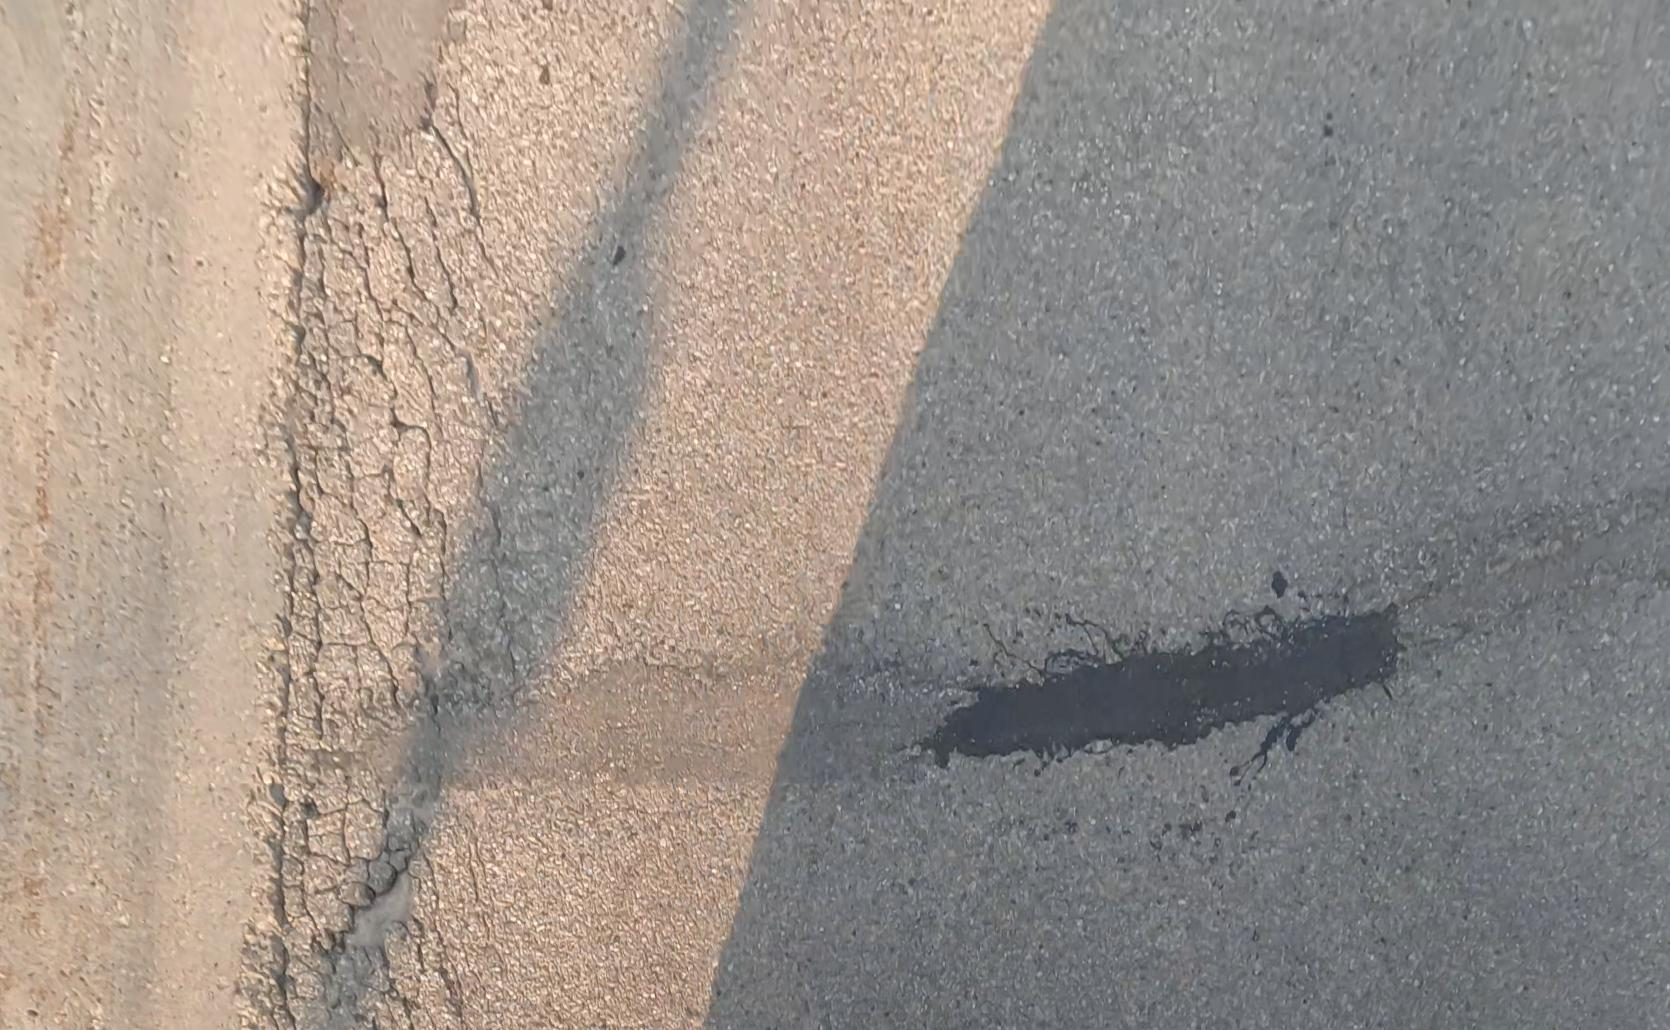pothole: (315, 870, 409, 1028)
pothole_patch_good: (371, 507, 1668, 810)
